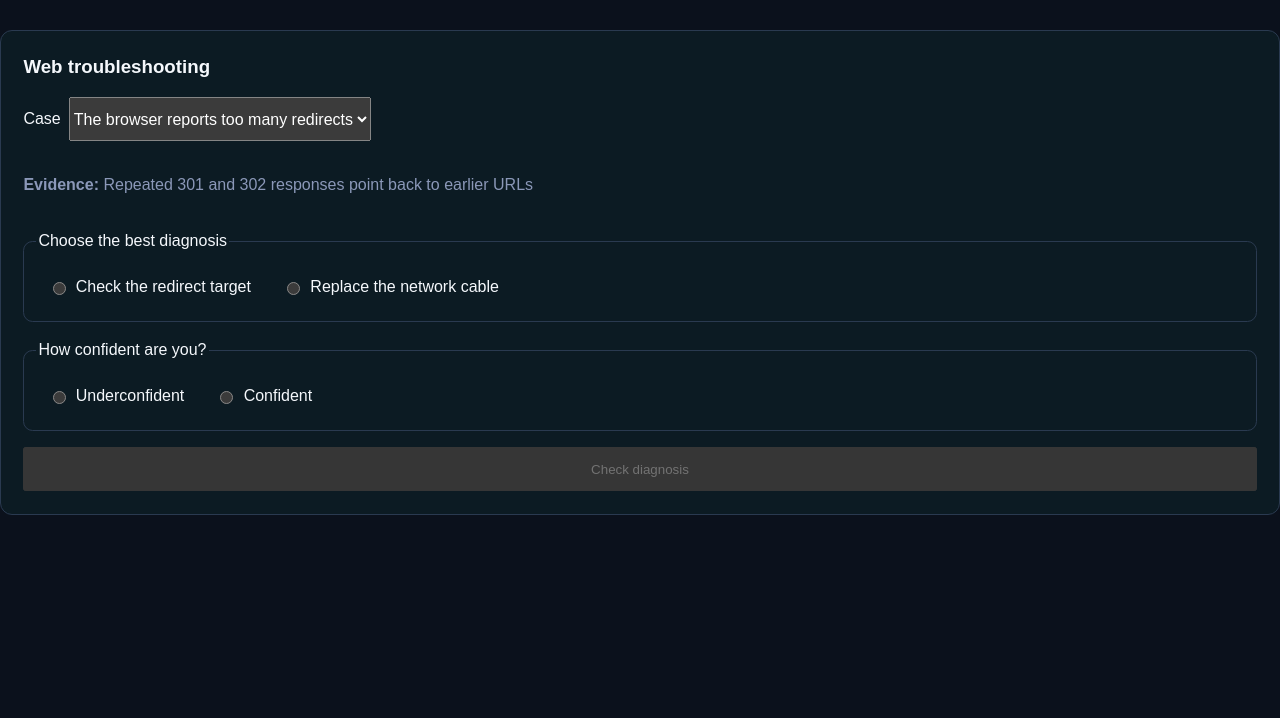
Test: ServiceTroubleshootingLab › keeps confidence separate and retries the exercise without erasing completion
The image size is (1280, 718).
Click the radio button labelled "Confident": click(227, 398) [220,392,234,404]
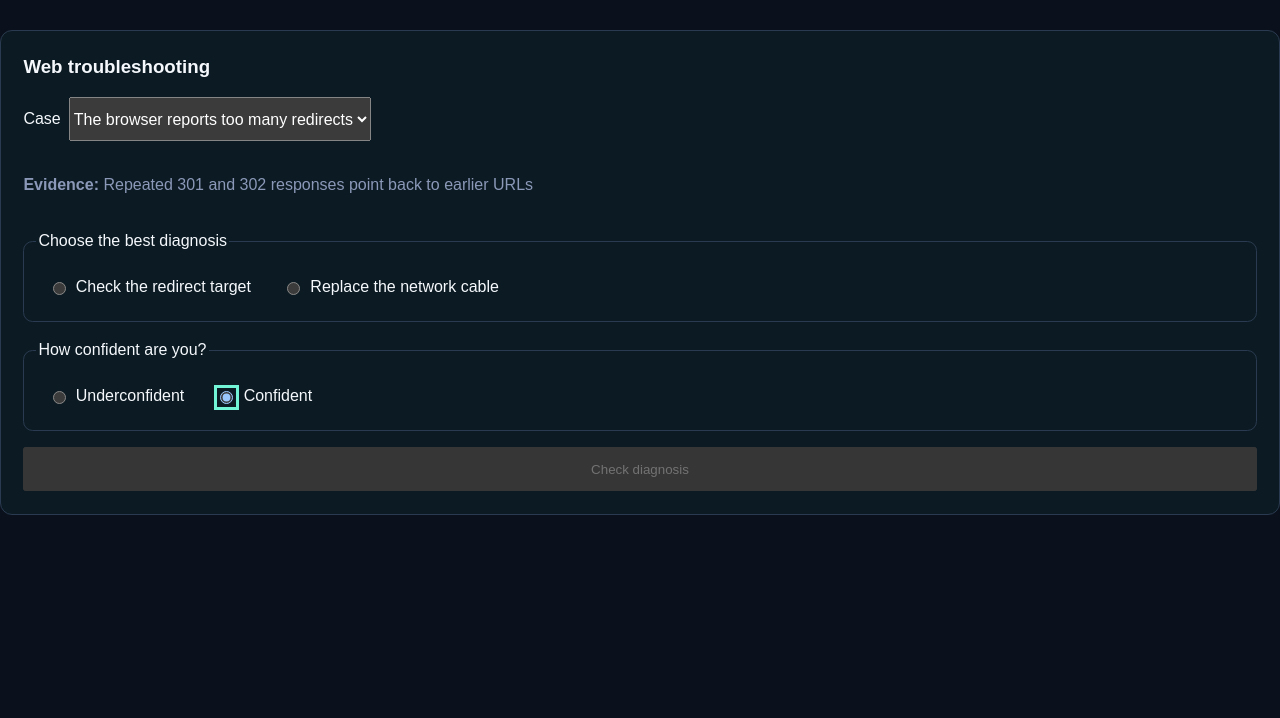
Click the radio button labelled "Check the redirect target": click(59, 289) [53,282,66,296]
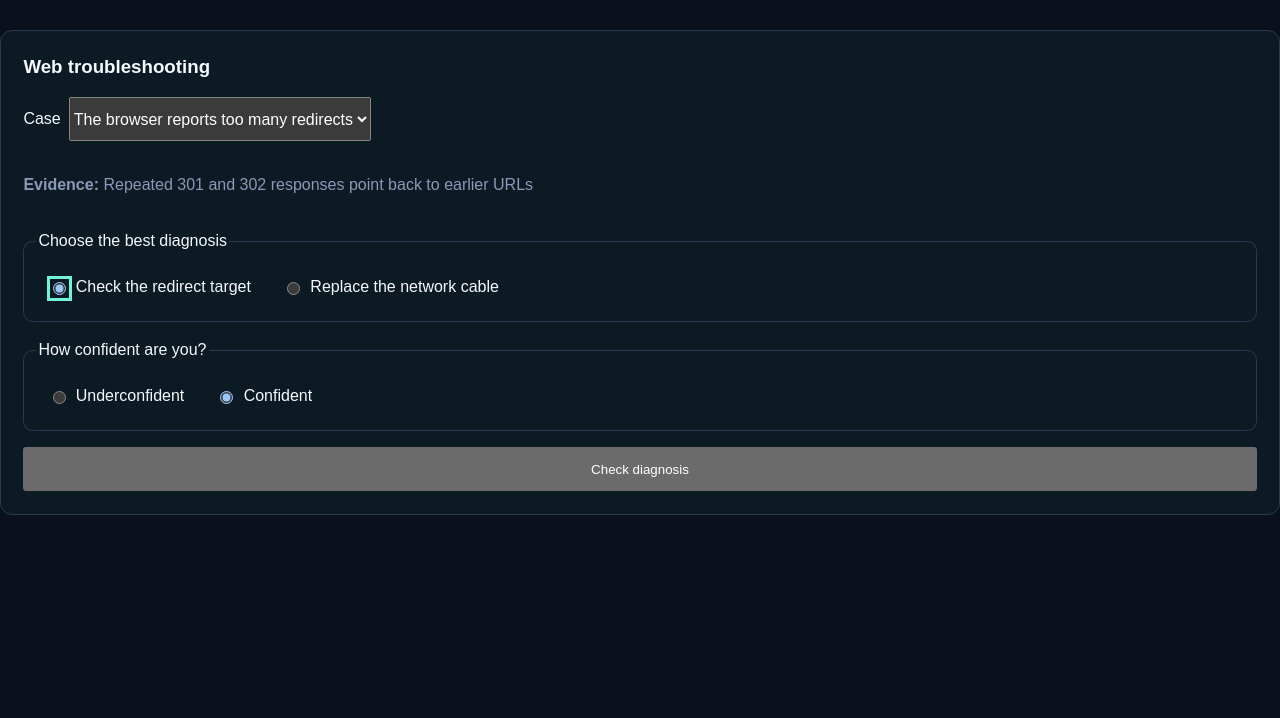
Click the button "Check diagnosis": click(640, 470) [23,448,1257,492]
(page scrolled)
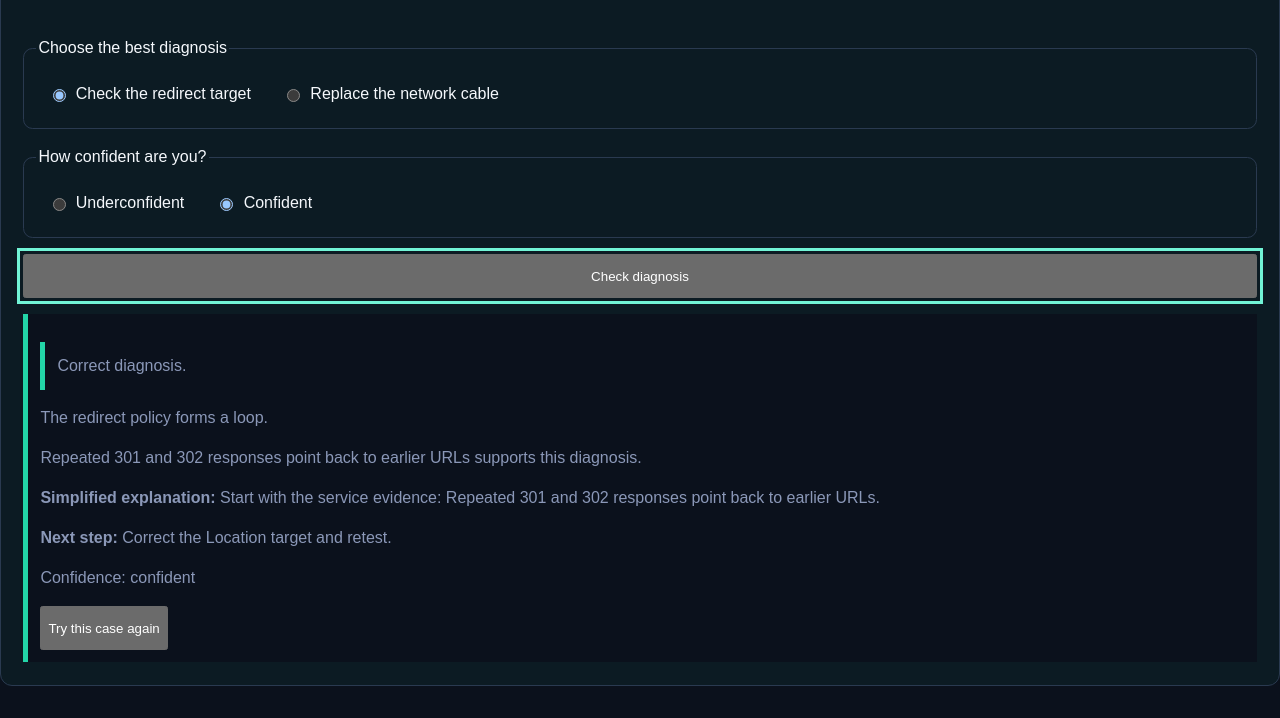
Expected: the text "Confidence: confident" is shown, [40,570,195,586]
Click the button "Try this case again": click(104, 628) [40,606,168,650]
(page scrolled)
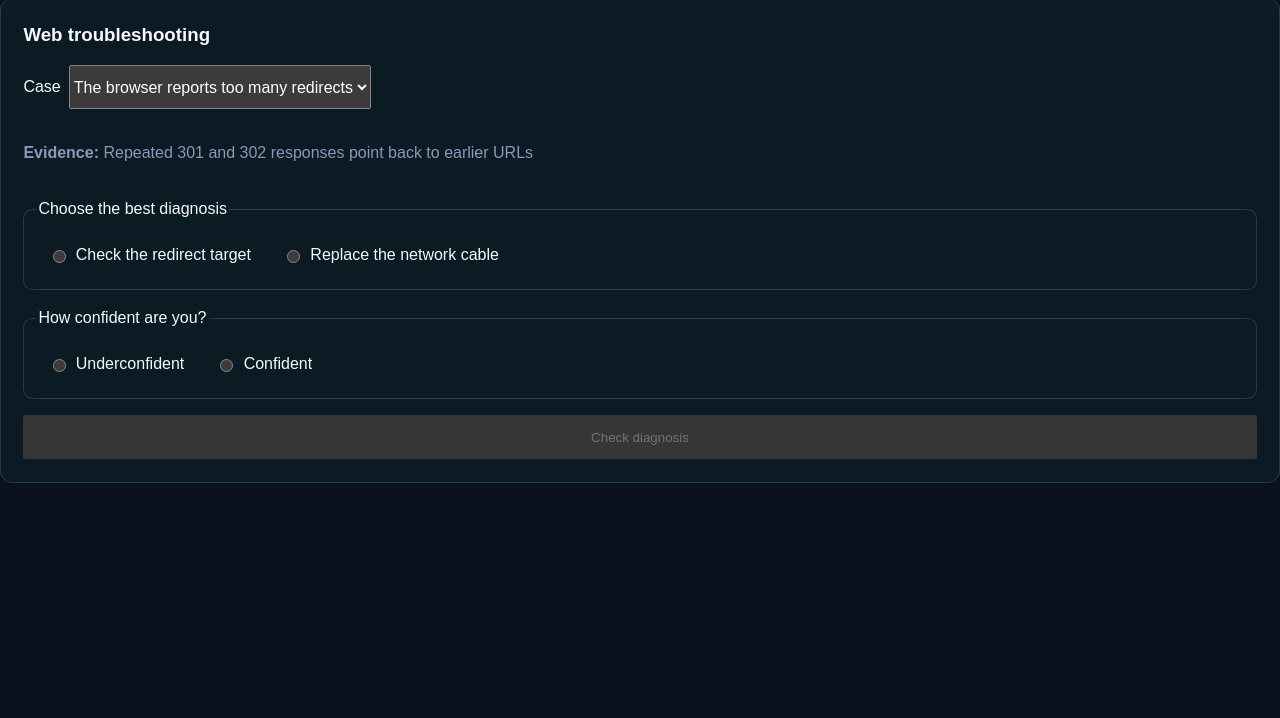
Expected: the message "Correct diagnosis." is gone
